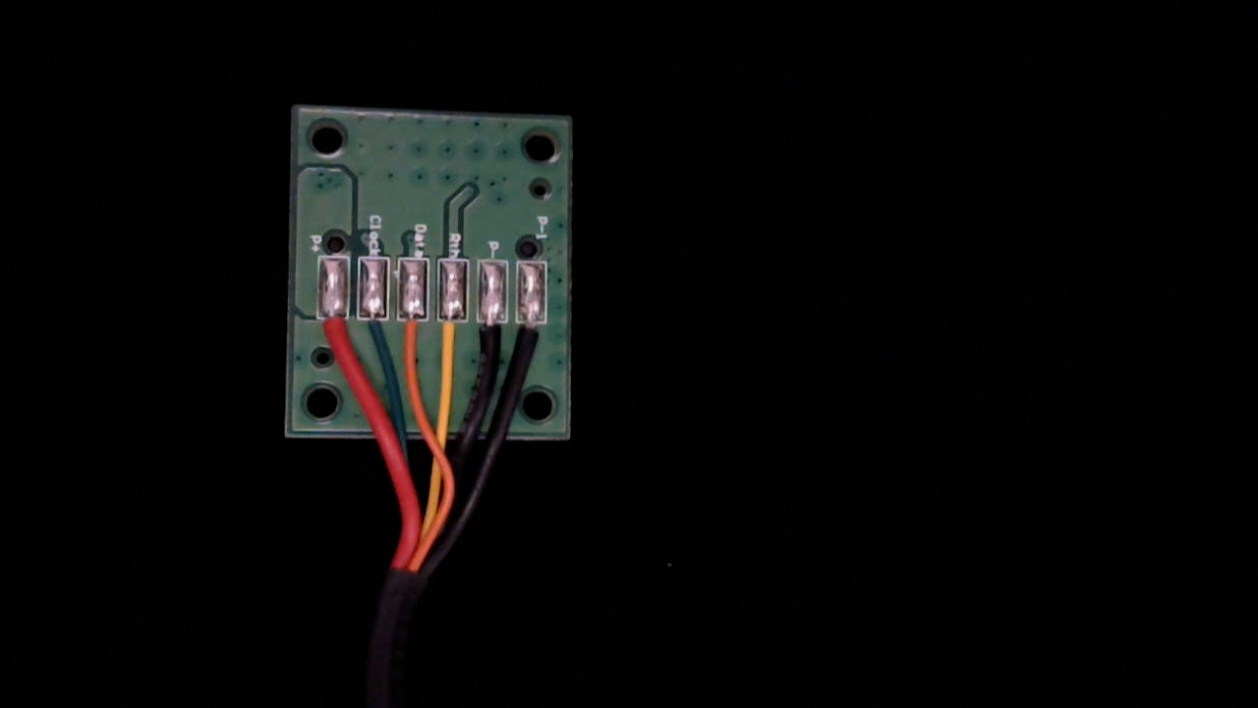Black: (476, 301, 508, 369)
Black1: (515, 303, 549, 374)
Green: (360, 299, 393, 366)
Orange: (396, 300, 428, 369)
Red: (319, 300, 352, 366)
Yellow: (439, 300, 467, 364)
